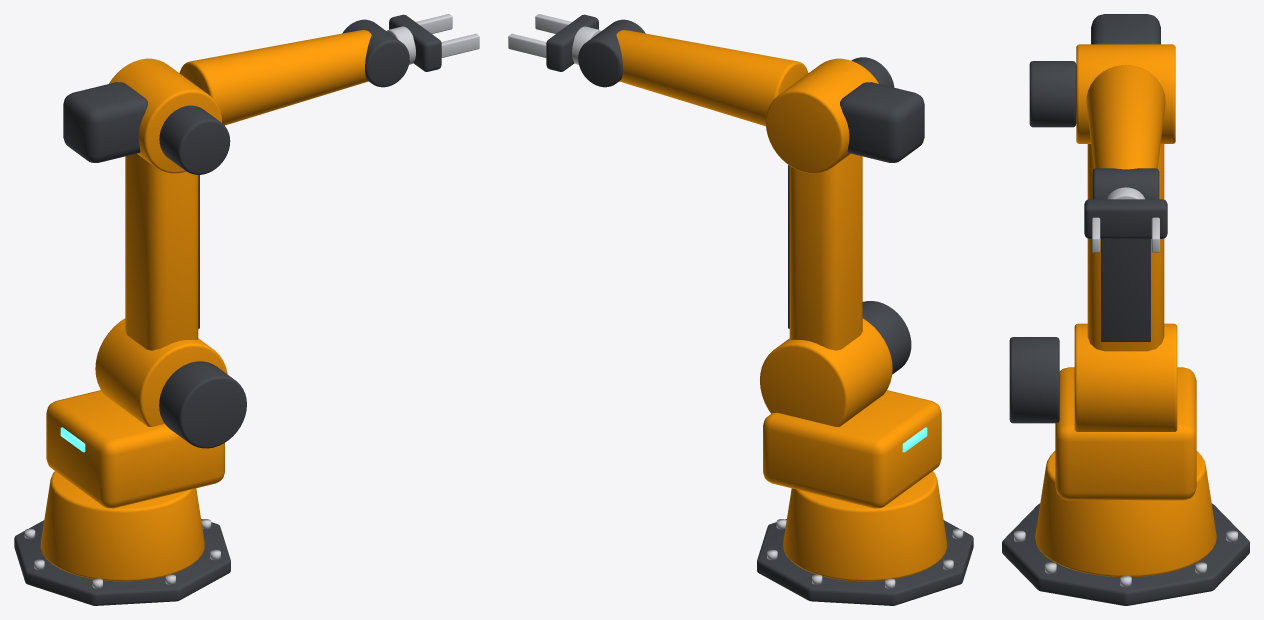
Rendered from robot-arm.glb.
The picture shows the model from 3 angles, left to right: view 1: azimuth 30°, elevation 25°; view 2: azimuth 150°, elevation 25°; view 3: azimuth 270°, elevation 25°; orthographic projection. The views are drawn at different scales.
Parts seen in each view (by area): view 1: Turret, UpperArm, BaseBody, Forearm, BasePlate, A2Housing, A2Motor, Counterweight, ElbowHousing, A3Motor, Wrist, GripperBody (+1 smaller); view 2: Turret, UpperArm, BaseBody, Forearm, A2Housing, ElbowHousing, BasePlate, Counterweight, Wrist, A2Motor, GripperBody, FingerLMesh; view 3: BaseBody, Turret, A2Housing, BasePlate, Forearm, UpperArmPanel, ElbowHousing, A2Motor, UpperArm, A3Motor, GripperBody, Counterweight (+2 smaller).
Part boxes in pixels (box(x1,y1,x2,y2)): Turret: box(46, 390, 224, 508); UpperArm: box(125, 153, 198, 350); BaseBody: box(40, 471, 204, 581); Forearm: box(179, 30, 371, 125); BasePlate: box(14, 519, 230, 605); A2Housing: box(95, 318, 227, 426); A2Motor: box(159, 361, 246, 448); Counterweight: box(63, 82, 147, 162); ElbowHousing: box(109, 58, 222, 173); A3Motor: box(159, 105, 230, 174); Wrist: box(342, 19, 409, 87); GripperBody: box(389, 14, 441, 71); Turret: box(763, 390, 941, 508); UpperArm: box(789, 153, 862, 350); BaseBody: box(783, 471, 947, 581); Forearm: box(616, 30, 808, 126); A2Housing: box(760, 318, 892, 426); ElbowHousing: box(765, 58, 878, 173); BasePlate: box(757, 519, 973, 605); Counterweight: box(840, 82, 924, 162); Wrist: box(578, 19, 645, 87); A2Motor: box(862, 301, 911, 374); GripperBody: box(546, 14, 598, 71); FingerLMesh: box(508, 33, 546, 57); BaseBody: box(1035, 451, 1216, 576); Turret: box(1055, 367, 1196, 500); A2Housing: box(1074, 323, 1177, 431); BasePlate: box(1002, 503, 1249, 605); Forearm: box(1086, 65, 1165, 169); UpperArmPanel: box(1101, 239, 1150, 341); ElbowHousing: box(1076, 44, 1175, 143); A2Motor: box(1009, 337, 1059, 423); UpperArm: box(1087, 144, 1164, 351); A3Motor: box(1029, 61, 1076, 127); GripperBody: box(1084, 199, 1167, 238); Counterweight: box(1091, 14, 1160, 44).
Bounding box in the file's own units: 3.37 × 3.52 × 1.49.
